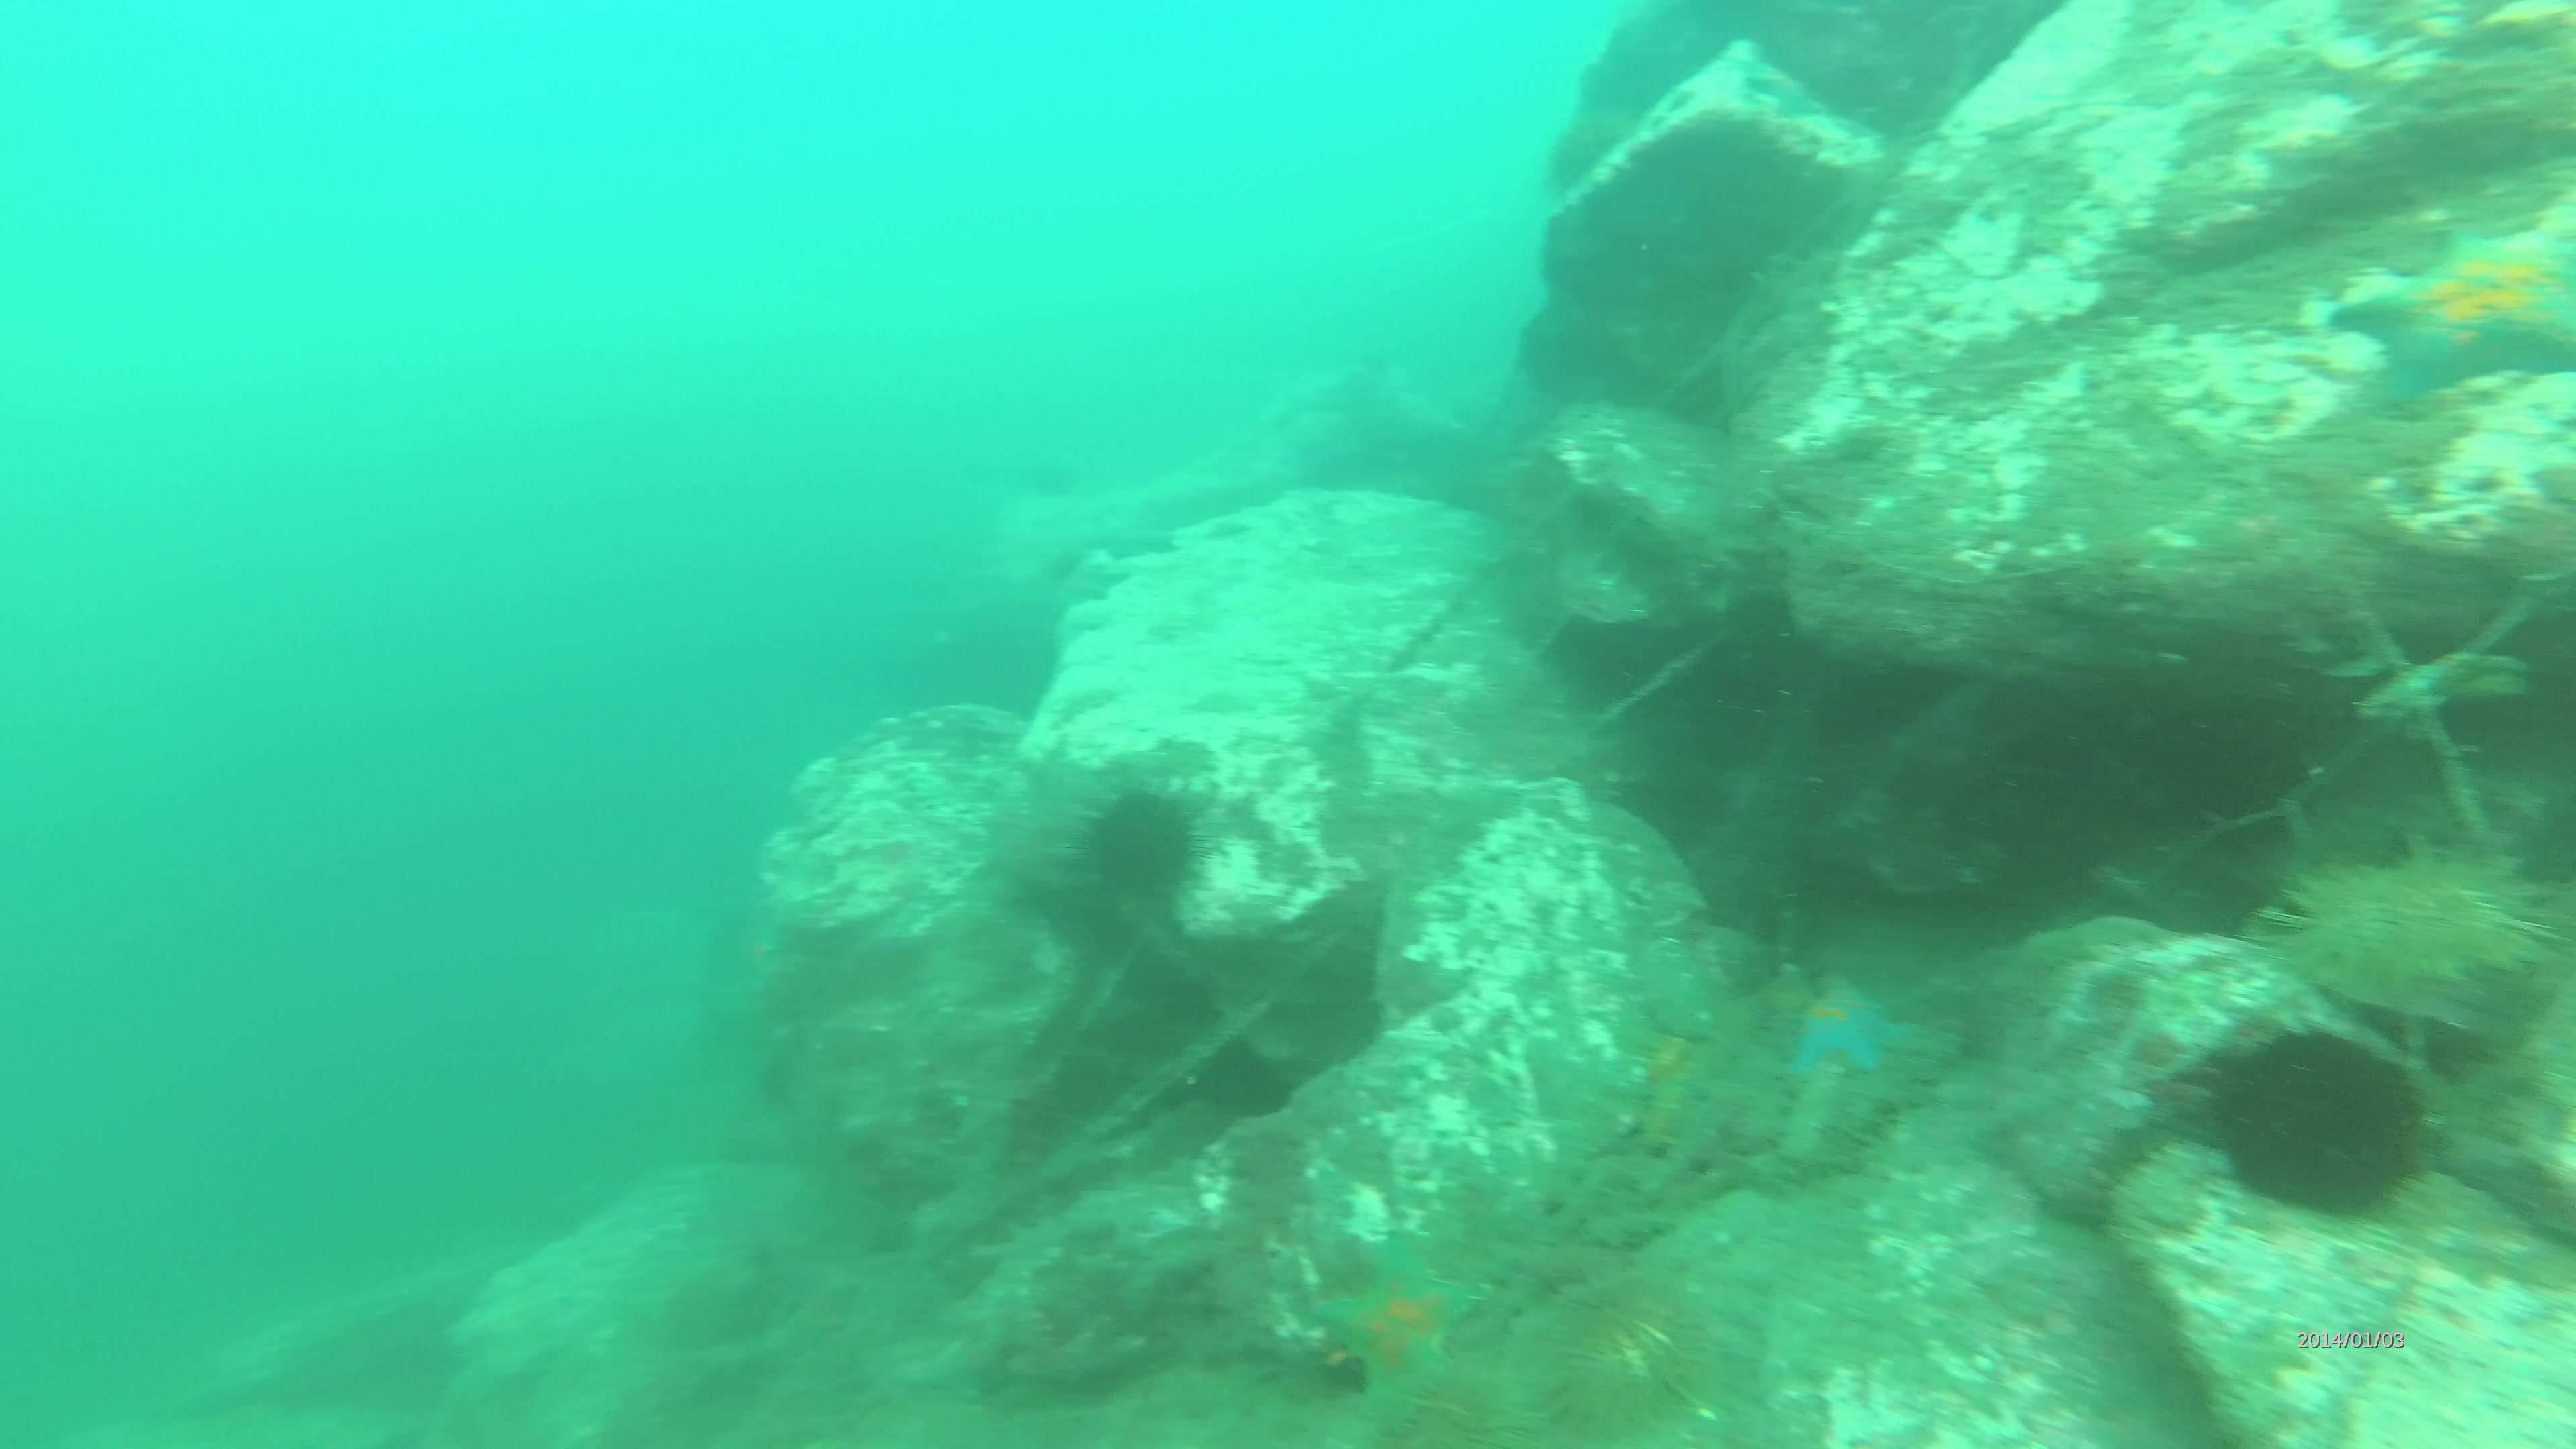echinus: (2249, 842, 2574, 1010), (2215, 1024, 2442, 1238), (1507, 1279, 1713, 1445), (1047, 780, 1210, 922)
starfish: (2332, 232, 2576, 439), (1295, 1219, 1493, 1410), (1782, 975, 1920, 1079)
